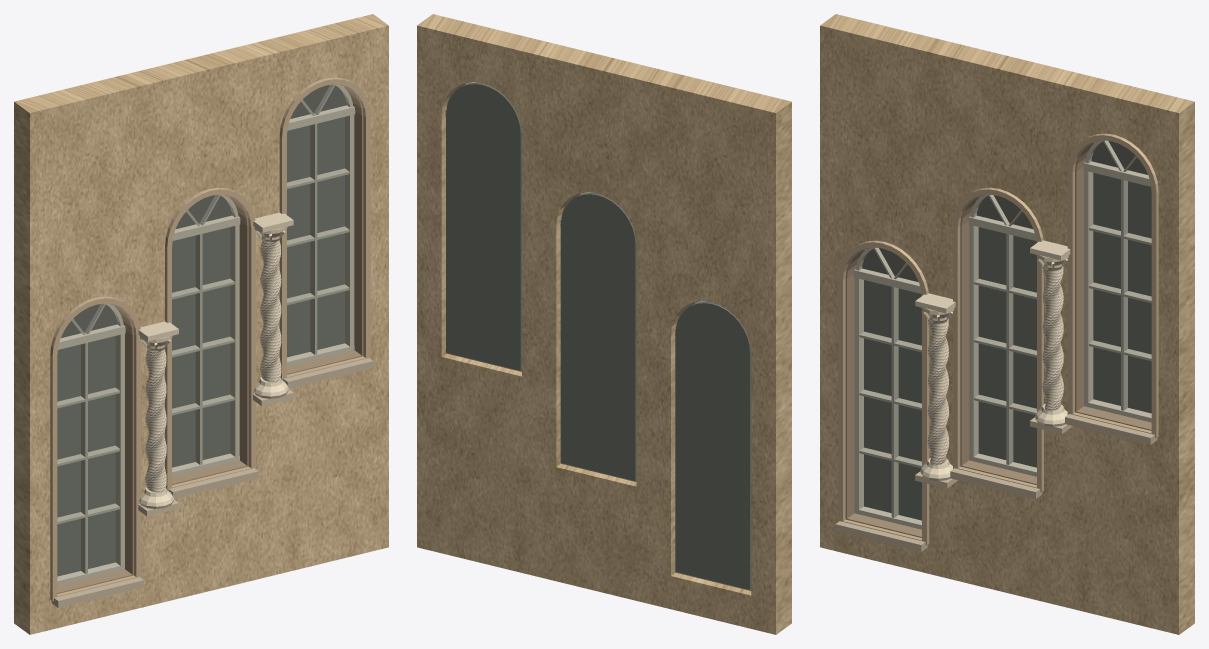
File: chen-stepped-windows-far.glb
3 views of the same model, side by side, from view 1: azimuth 30°, elevation 25°; view 2: azimuth 150°, elevation 25°; view 3: azimuth 330°, elevation 25° (orthographic).
Parts seen in each view (by area): view 1: 陈氏花园住宅阶梯三拱窗与绞绳柱; view 2: 陈氏花园住宅阶梯三拱窗与绞绳柱; view 3: 陈氏花园住宅阶梯三拱窗与绞绳柱.
Boxes of the visible parts, x1,y1,x2,y2 form: 陈氏花园住宅阶梯三拱窗与绞绳柱: (14,14,388,634); 陈氏花园住宅阶梯三拱窗与绞绳柱: (417,14,791,634); 陈氏花园住宅阶梯三拱窗与绞绳柱: (820,14,1194,634).
Size of the model in its own units: 2.88 by 4 by 0.402.
Materials: 12 (1 with a texture image).
